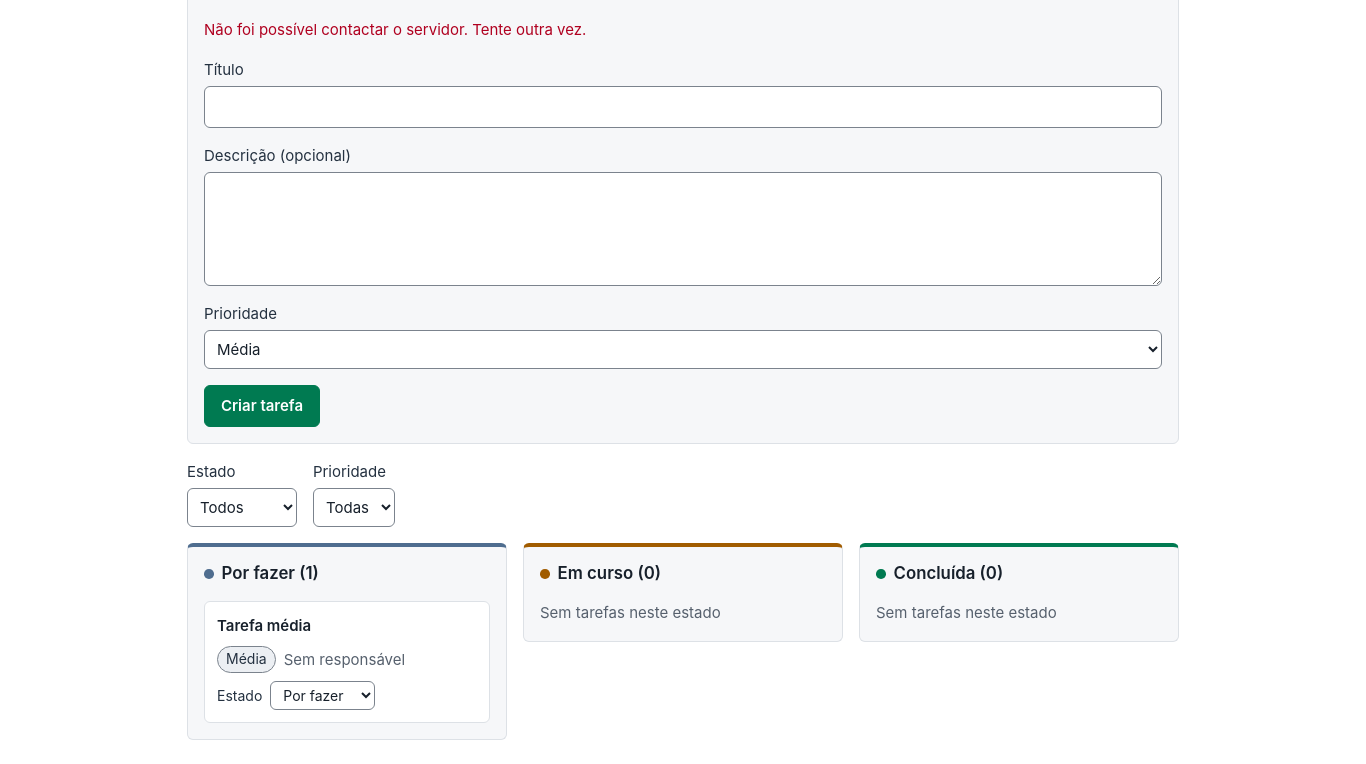
ProjectView (US08, US23, US06) › ao mudar os filtros, não mostra as tarefas dos filtros anteriores, mesmo que a lista falhe
This screenshot has width=1366, height=764.
(page scrolled)
Select "Alta" in the 2nd dropdown labelled "Prioridade" at x=354, y=508, box [313,488,395,527]
(page scrolled)
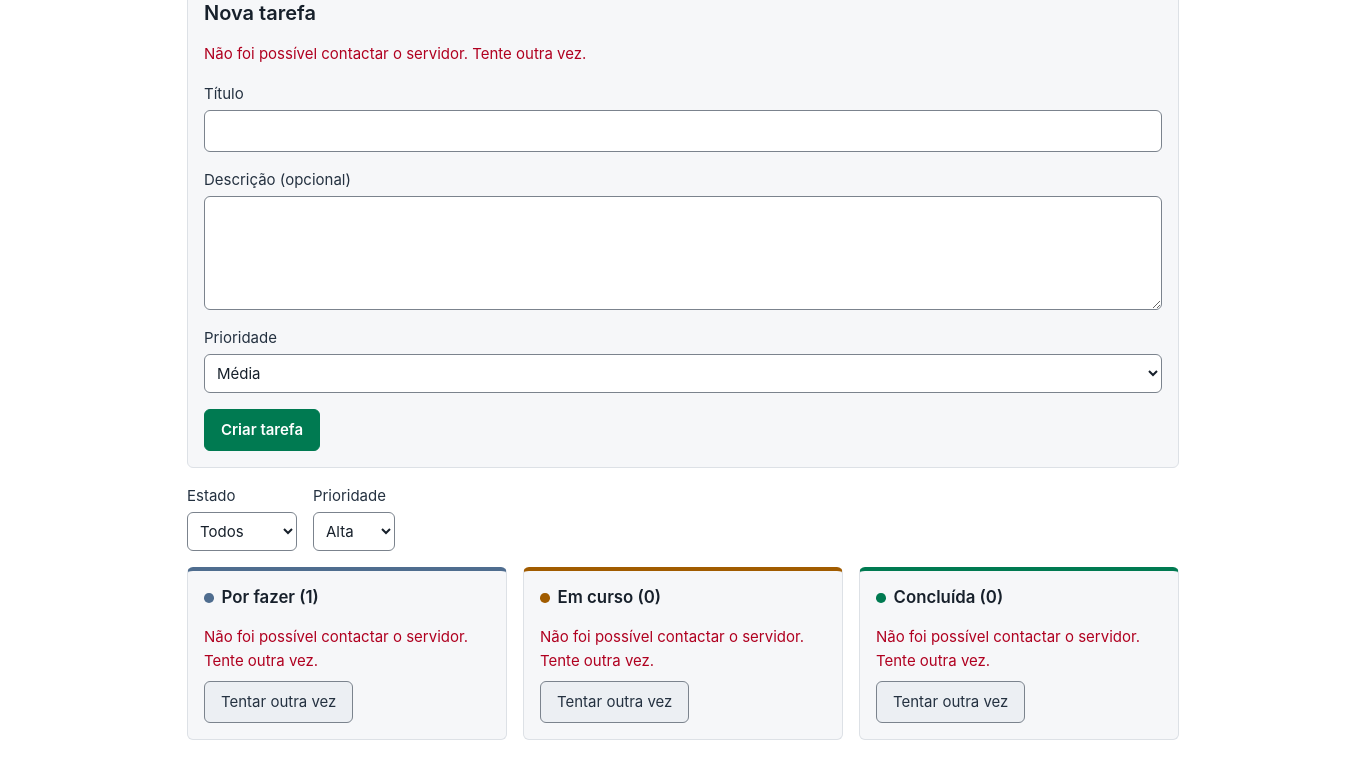
Result: the text "Tarefa média" is gone
